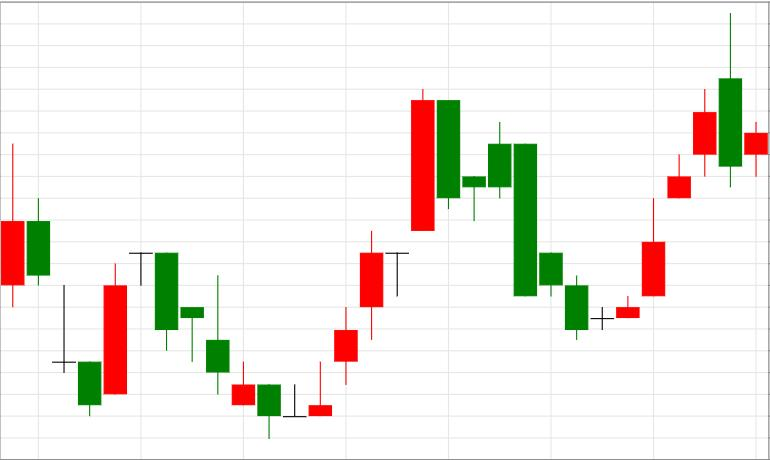bearish_engulfing_fall: (616, 13, 742, 318)
